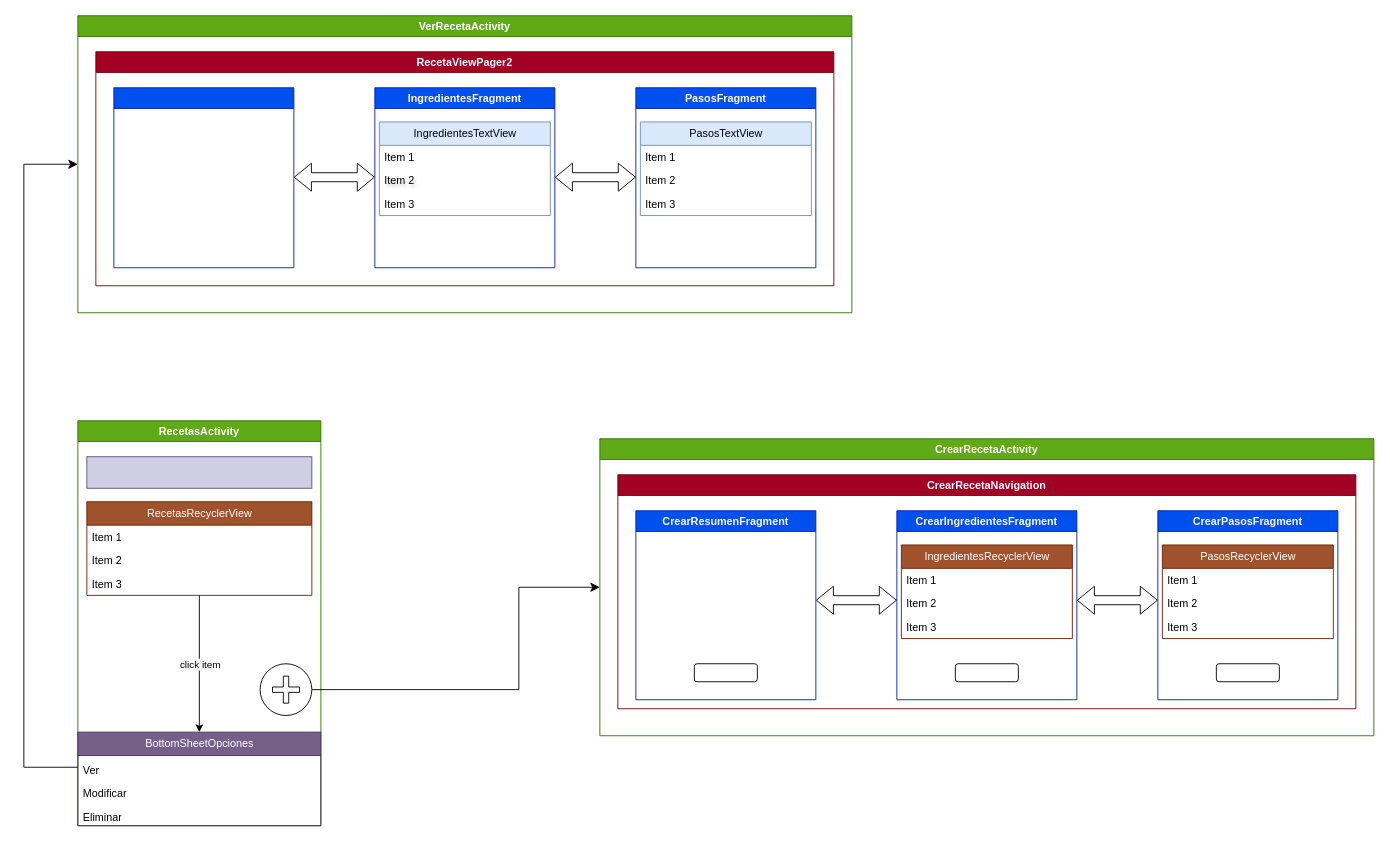
Image size: 1390x842. Some labels were removed from this diagram. The shapes that lost their labels are listed below. From the top down, each one's centre as x and y in pixels, then its label:
(x=203, y=177): ResumenFragment
(x=199, y=472): Buscador
(x=725, y=672): Ingredientes
(x=986, y=672): Pasos
(x=1247, y=672): Guardar
